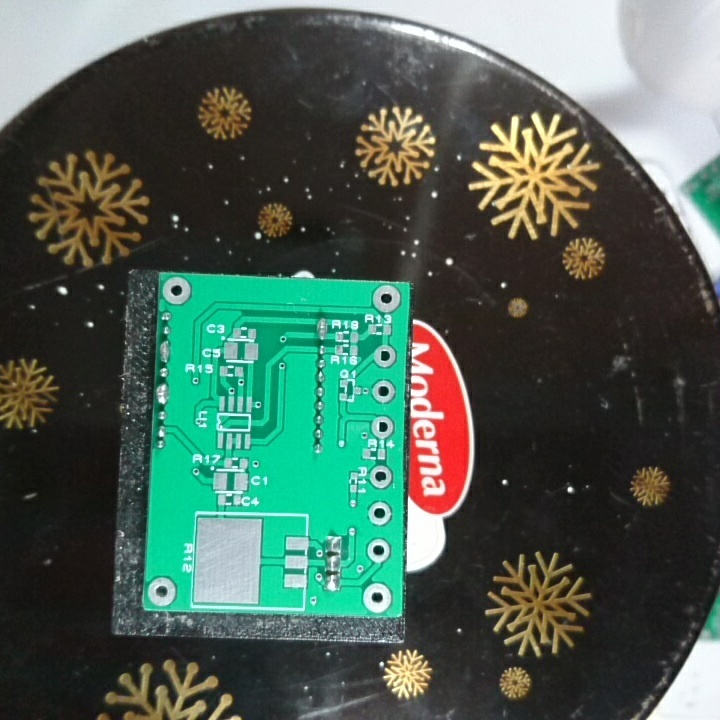F: (361, 580, 394, 616), (145, 575, 177, 609), (160, 274, 192, 307), (371, 283, 402, 315), (368, 376, 399, 408), (367, 500, 393, 530), (368, 463, 394, 491), (369, 343, 396, 369), (368, 413, 394, 440), (365, 538, 392, 564)
P: (154, 380, 171, 407), (157, 339, 173, 365), (315, 315, 330, 342)
